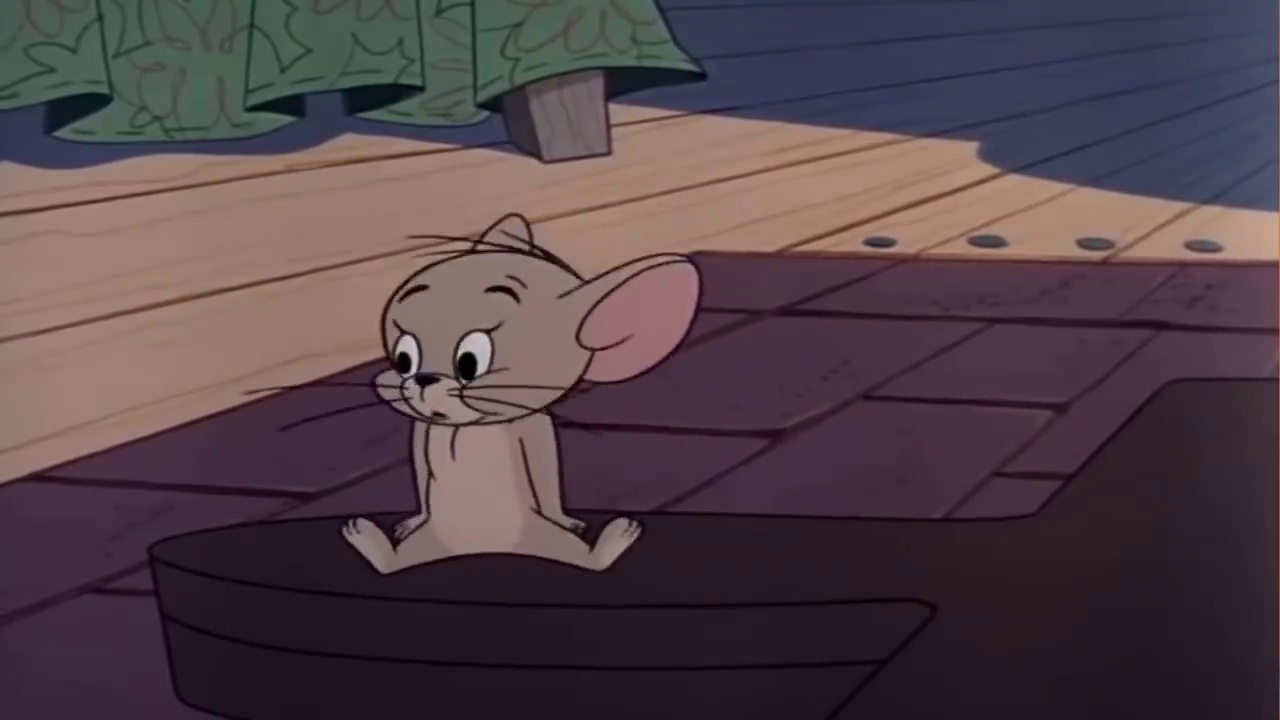face: (390, 278, 532, 429)
